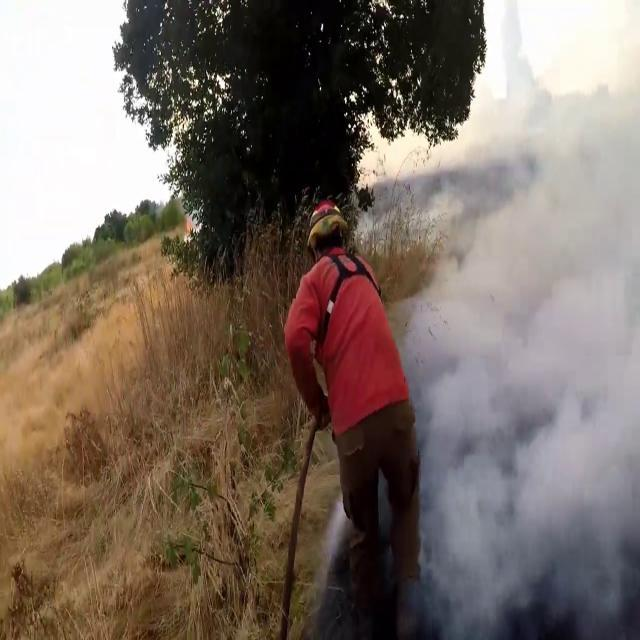Smoke: (392, 0, 640, 631)
